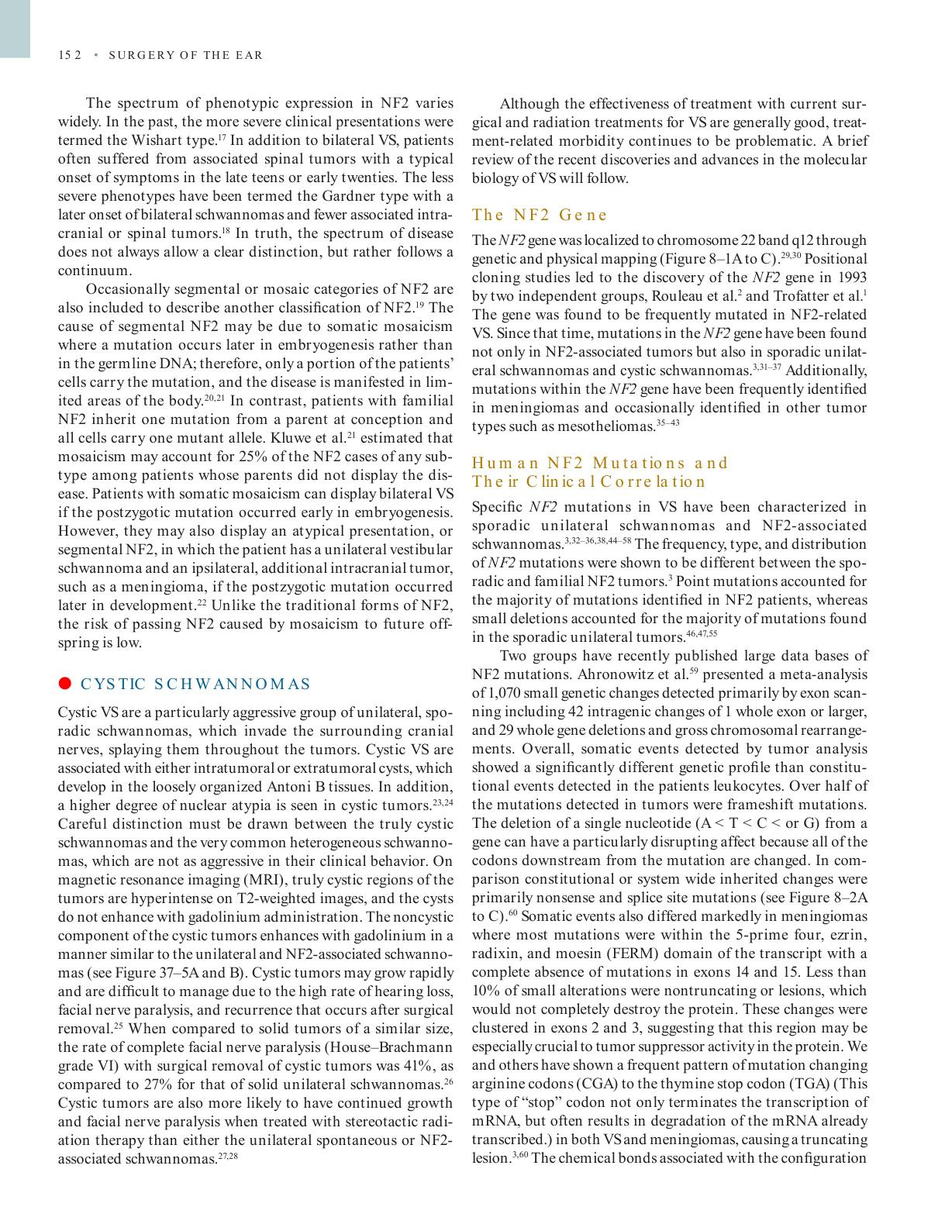header: (108, 50, 263, 60)
section-heading: (79, 676, 312, 691)
sub-section-heading: (469, 452, 730, 490), (470, 206, 608, 223)
text: (469, 496, 871, 1168), (56, 93, 457, 656), (55, 700, 456, 1170), (469, 231, 871, 437), (469, 93, 871, 190)
